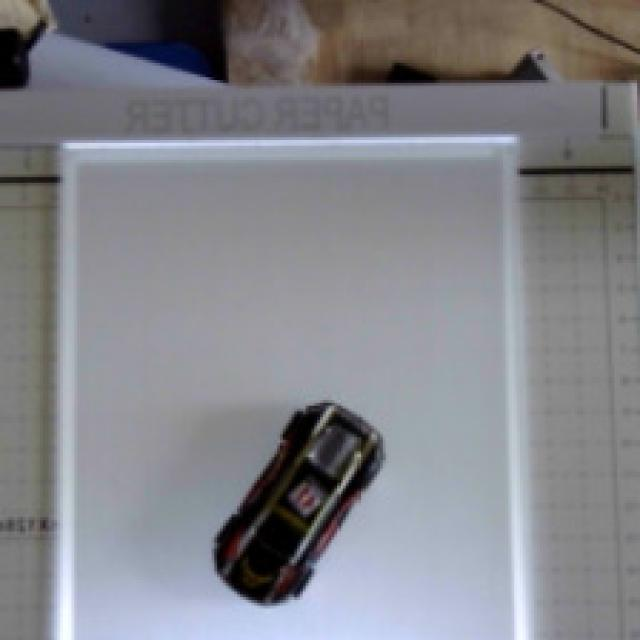Red Car: (196, 388, 420, 623)
